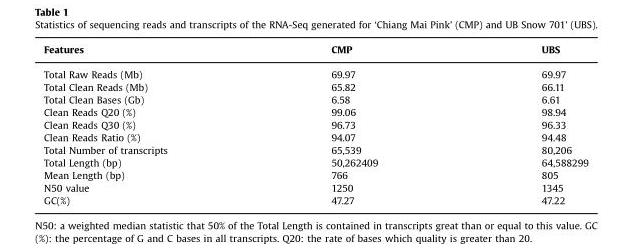table: (43, 42, 587, 205)
table column: (248, 42, 459, 205), (43, 42, 248, 205), (459, 42, 587, 205)
table column header: (43, 42, 587, 61)
table row: (43, 42, 587, 61), (43, 61, 587, 80), (43, 92, 587, 105), (43, 117, 587, 130), (43, 130, 587, 143), (43, 155, 587, 168), (43, 180, 587, 193), (43, 80, 587, 92), (43, 105, 587, 117), (43, 143, 587, 155), (43, 168, 587, 180), (43, 193, 587, 205)
